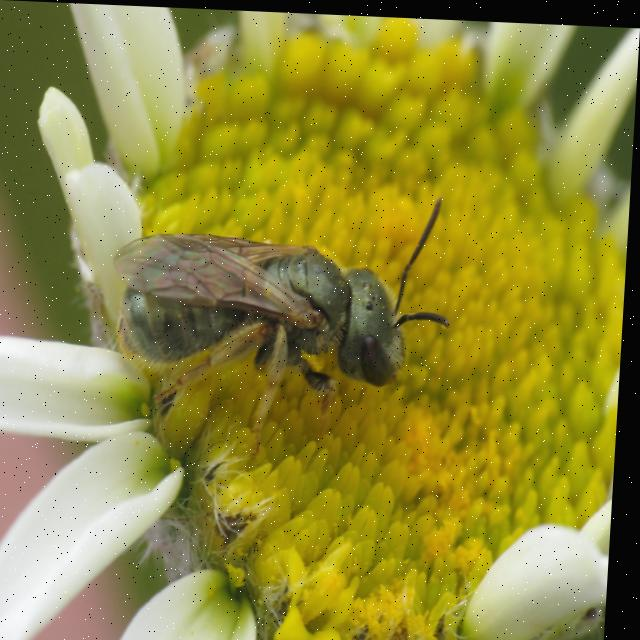Seladonia: (104, 177, 465, 423)
